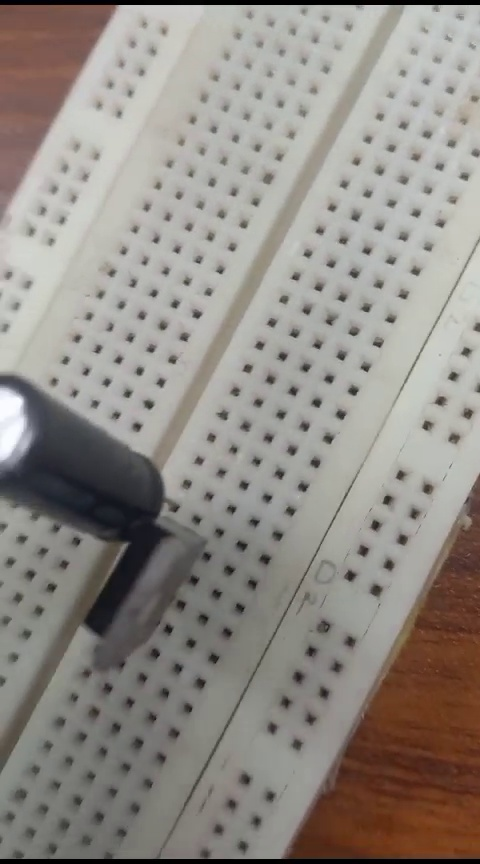capacitor: (4, 355, 170, 541)
voltage regulator: (78, 519, 198, 661)
